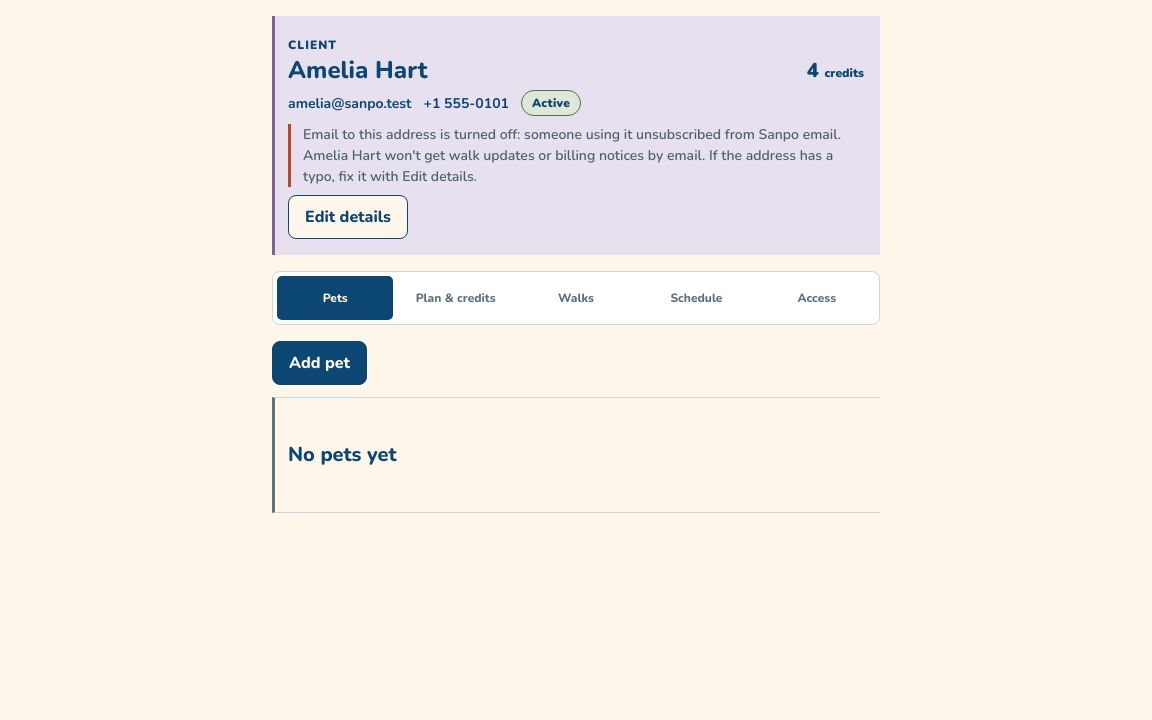
ClientDetail — a client's address has opted out of email › keeps the notice through a capitalisation fix
Expected: the heading "Amelia Hart" is shown, x1=288 y1=57 x2=427 y2=85
Expected: the 1st message shows "Email to this address is turned off", x1=303 y1=125 x2=841 y2=186
Click the button "Edit details" at (348, 217), box x1=288 y1=195 x2=408 y2=239
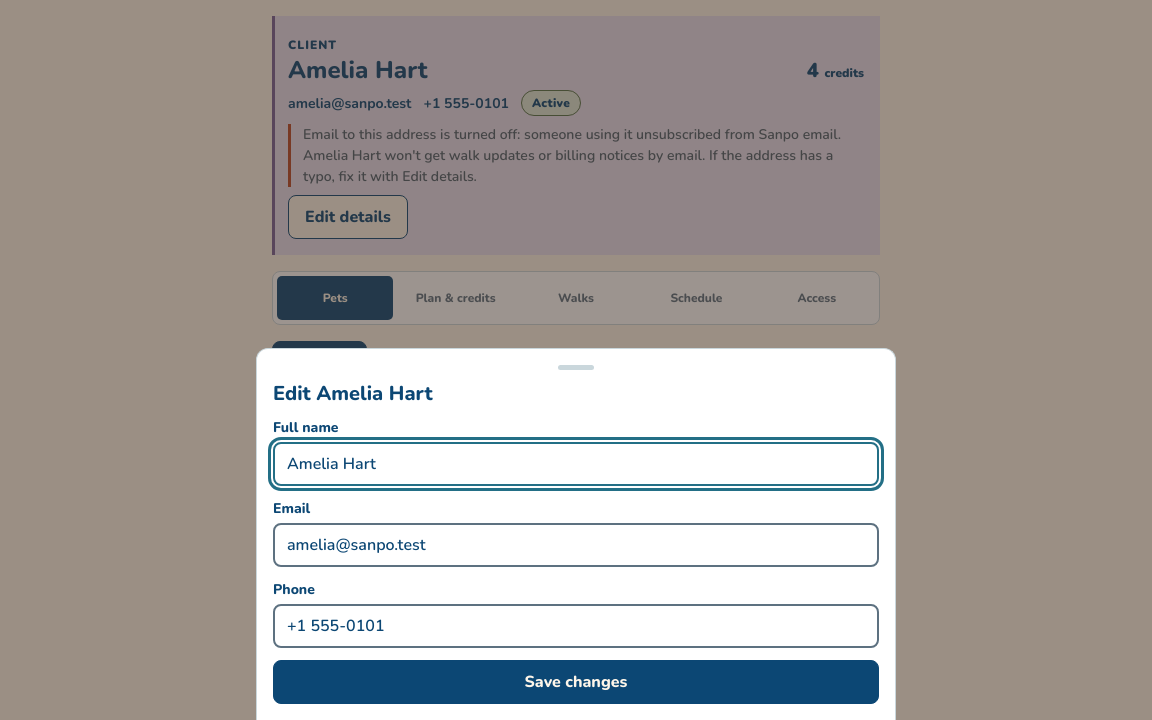
Clear the field labelled "Email" at (576, 545), box x1=273 y1=523 x2=879 y2=567
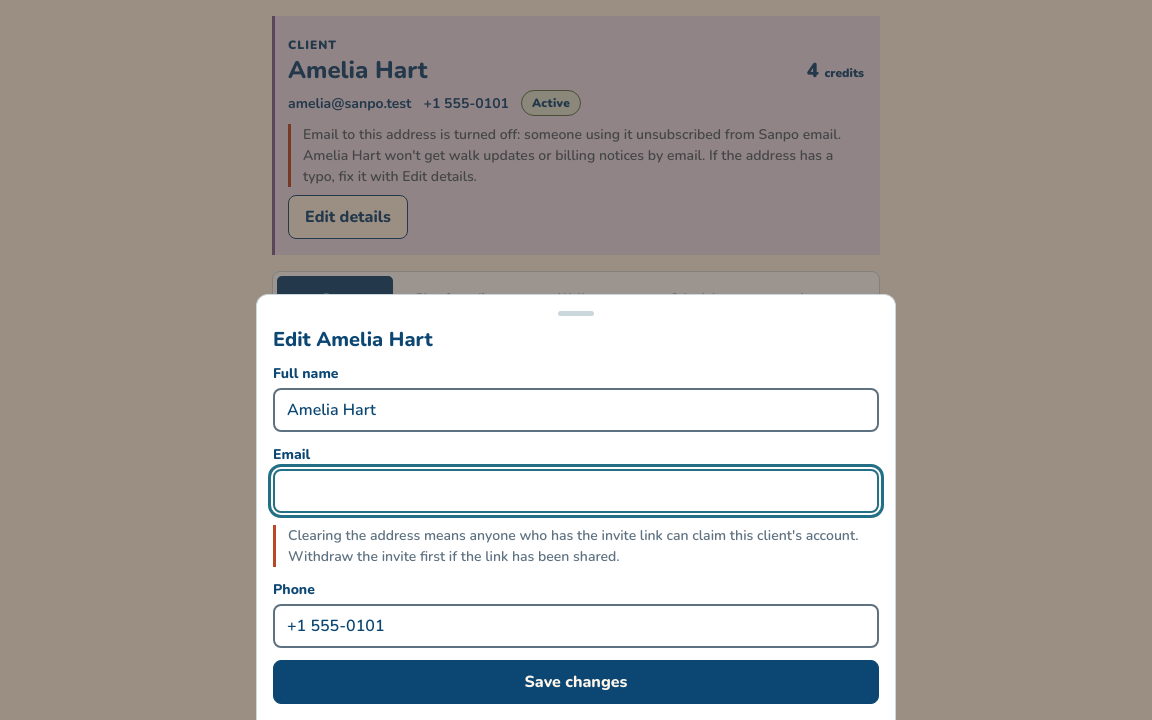
Type "AMELIA@sanpo.test" into the field labelled "Email" at (576, 491), box x1=273 y1=469 x2=879 y2=513
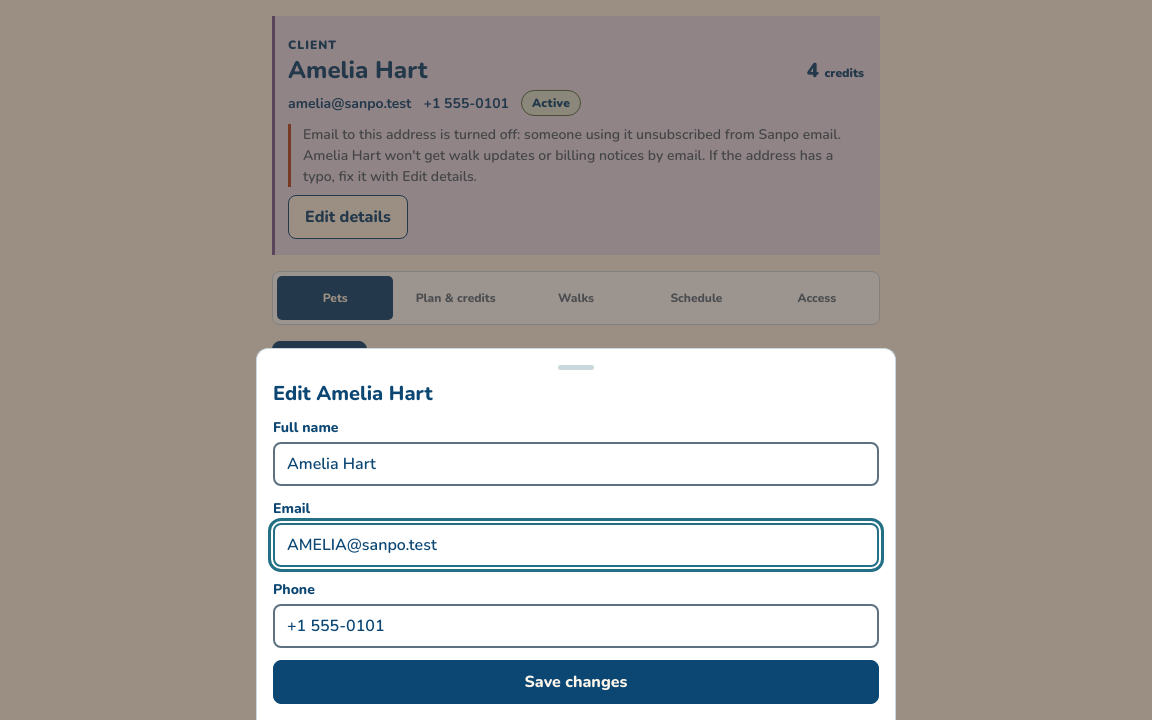
Click the button "Save changes" at (576, 682), box x1=273 y1=660 x2=879 y2=704
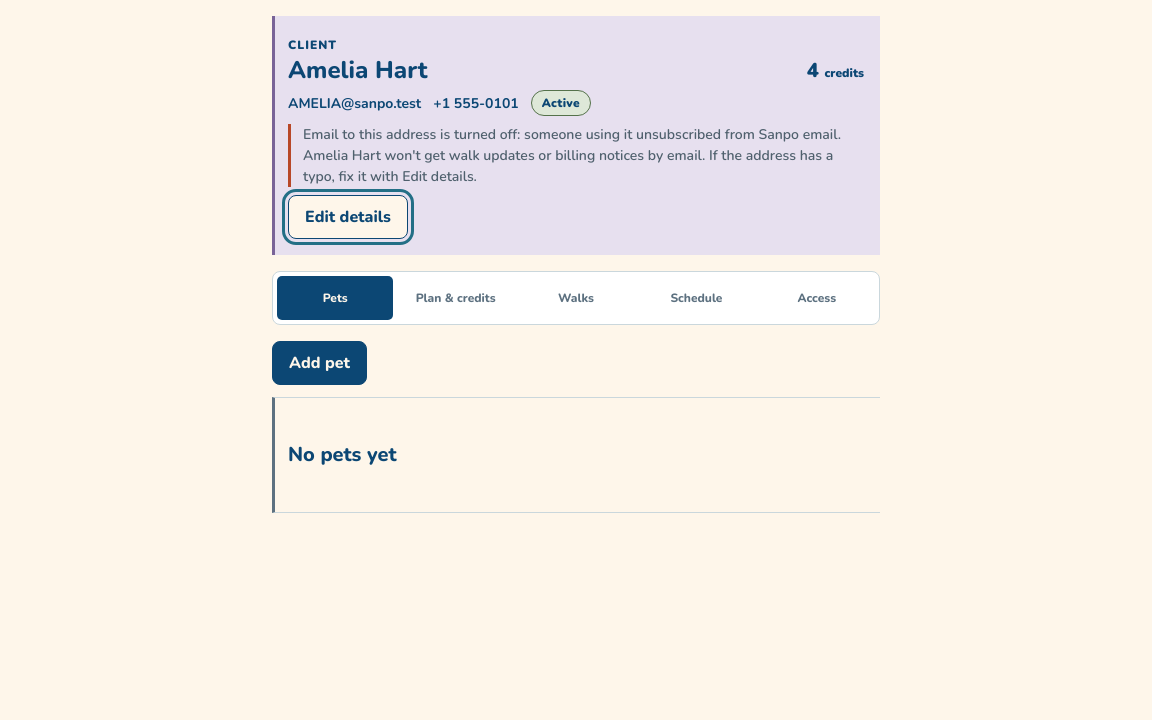
Expected: the 1st message shows "Email to this address is turned off", x1=303 y1=125 x2=841 y2=186
Result: the dialog is gone
